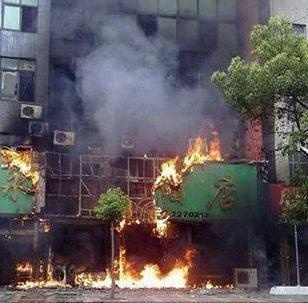fire: (151, 127, 225, 188), (0, 143, 42, 189)
